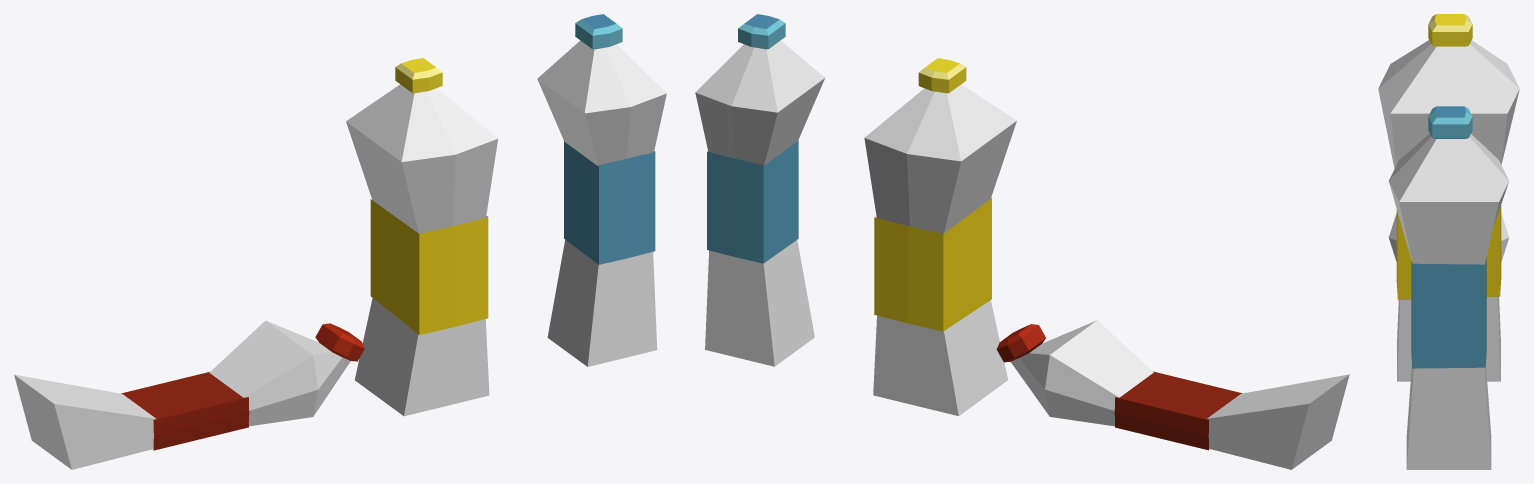
Rendered from TrashBottles1.fbx.
3 renders of one model, left to right at view 1: azimuth 30°, elevation 25°; view 2: azimuth 150°, elevation 25°; view 3: azimuth 270°, elevation 25°, orthographic. The views are drawn at different scales.
Parts seen in each view (by area): view 1: TrashBottle1, TrashBottle2, TrashBottle3; view 2: TrashBottle1, TrashBottle2, TrashBottle3; view 3: TrashBottle2, TrashBottle1, TrashBottle3.
Boxes of the visible parts, left/top/right/bottom form: TrashBottle1: left=346, top=58, right=497, bottom=416; TrashBottle2: left=537, top=14, right=666, bottom=366; TrashBottle3: left=14, top=320, right=364, bottom=469; TrashBottle1: left=864, top=58, right=1016, bottom=416; TrashBottle2: left=695, top=14, right=824, bottom=366; TrashBottle3: left=996, top=320, right=1349, bottom=469; TrashBottle2: left=1388, top=106, right=1508, bottom=469; TrashBottle1: left=1378, top=14, right=1519, bottom=381; TrashBottle3: left=1388, top=213, right=1509, bottom=261.
Bounding box in the file's own units: 1.42 × 0.7166 × 0.2715.
Materials: 3 (3 with a texture image).
